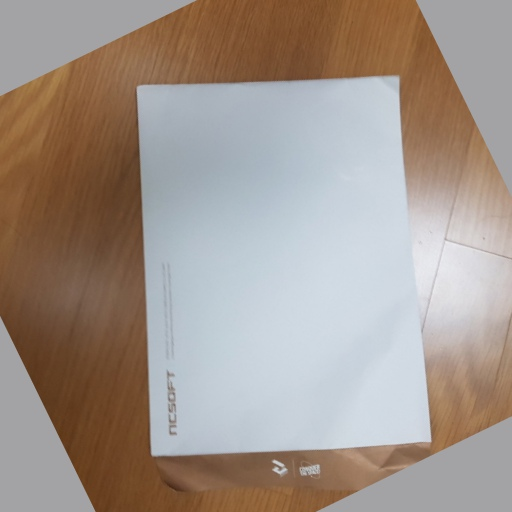Paper_2: (126, 70, 440, 501)
